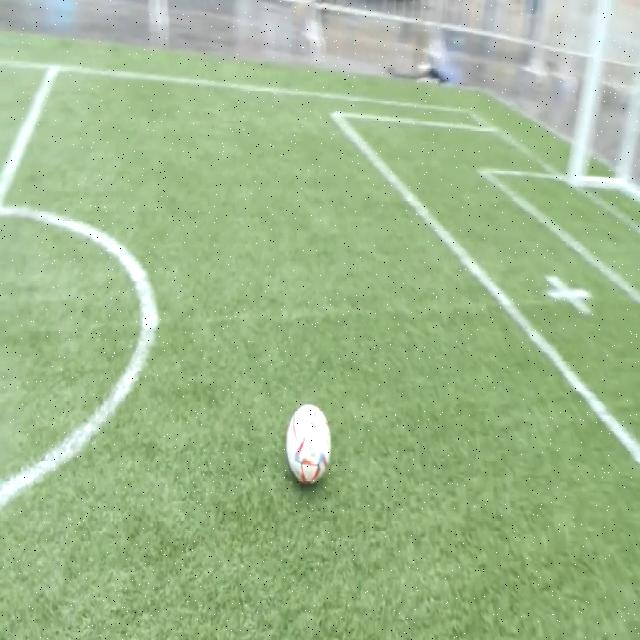ball: (285, 405, 331, 483)
goalpost: (561, 137, 590, 192)
